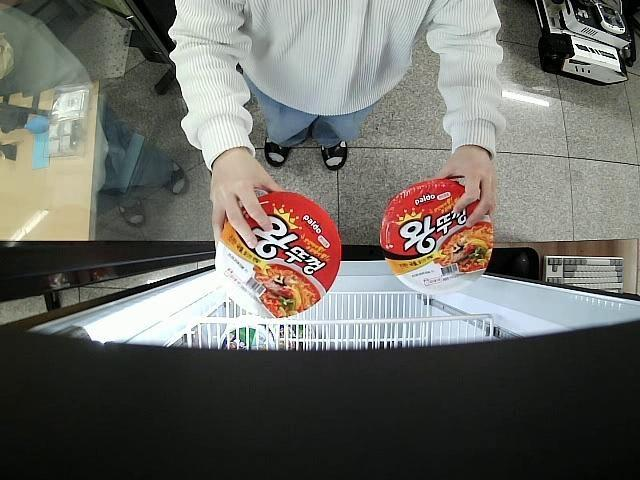10_wangTtukkeong: (216, 192, 341, 316), (382, 178, 490, 294)
